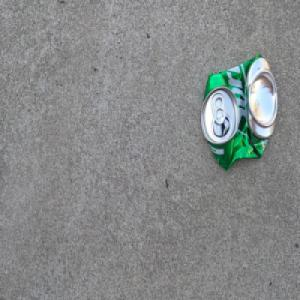SodaCan: (200, 52, 278, 171)
